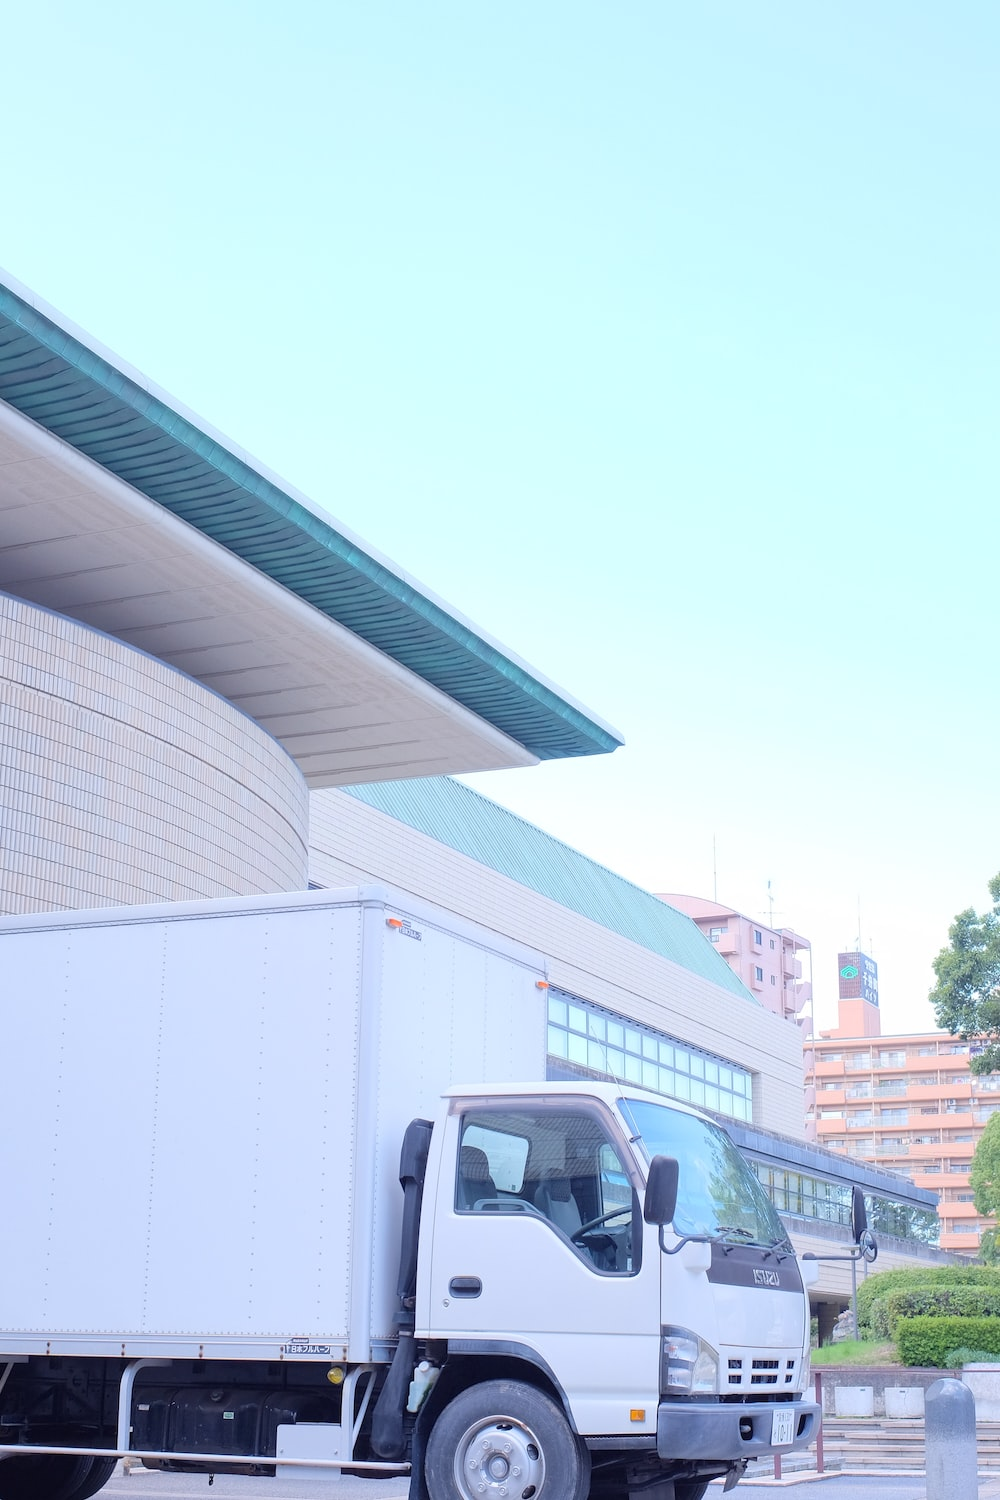truck: (1, 911, 801, 1500)
